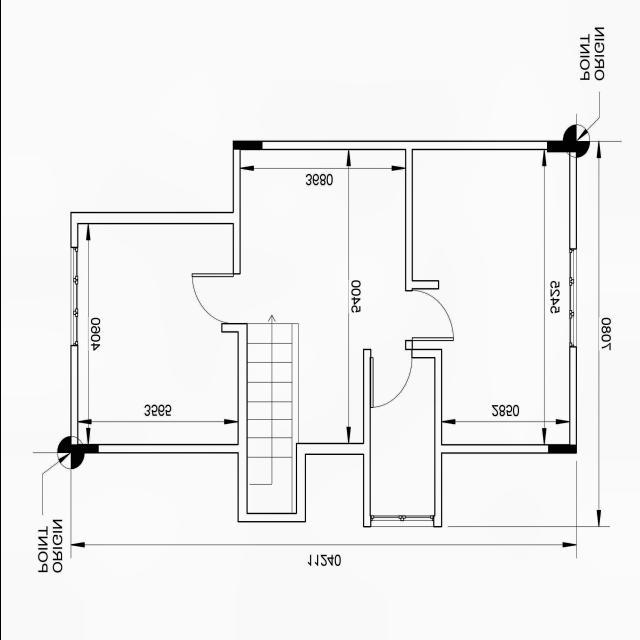Column: (545, 138, 578, 154), (546, 442, 577, 456), (232, 139, 262, 150), (68, 444, 98, 454)
Door: (404, 287, 455, 343), (366, 352, 416, 409), (188, 274, 240, 328)
Staircase: (244, 318, 298, 518)
Window: (367, 511, 435, 533), (68, 242, 79, 350), (567, 247, 577, 351)
